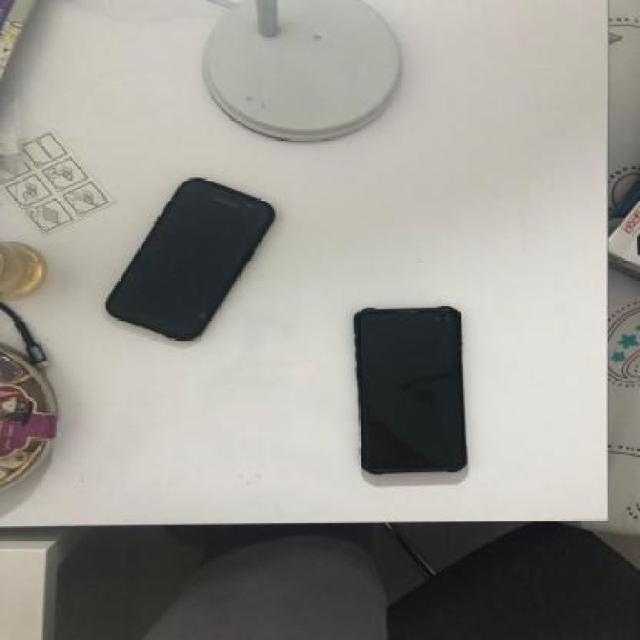phone: (103, 178, 274, 344), (350, 305, 470, 473)
